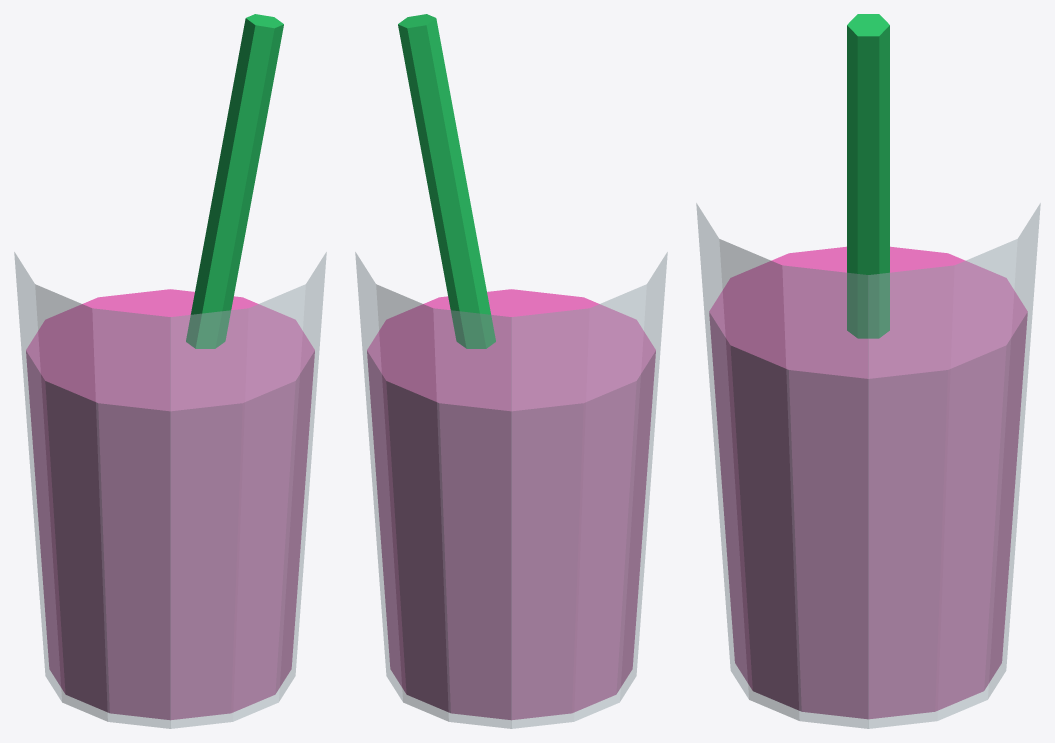
The model's file is karaoke_juice_glass.glb.
3 views of the same model, side by side, from view 1: azimuth 30°, elevation 25°; view 2: azimuth 150°, elevation 25°; view 3: azimuth 270°, elevation 25° (orthographic). The views are drawn at different scales.
Parts seen in each view (by area): view 1: glass_juice_glass, juice_juice_pink, straw_juice_straw; view 2: glass_juice_glass, juice_juice_pink, straw_juice_straw; view 3: glass_juice_glass, juice_juice_pink, straw_juice_straw.
Part boxes in pixels (x1,y1,x2,y2): glass_juice_glass: (14, 252, 326, 728); juice_juice_pink: (26, 289, 314, 719); straw_juice_straw: (186, 14, 283, 348); glass_juice_glass: (355, 252, 667, 728); juice_juice_pink: (367, 289, 655, 719); straw_juice_straw: (398, 14, 495, 348); glass_juice_glass: (696, 203, 1040, 728); juice_juice_pink: (709, 246, 1027, 719); straw_juice_straw: (847, 14, 889, 338).
Size of the model in its own units: 0.08 by 0.1793 by 0.08.
